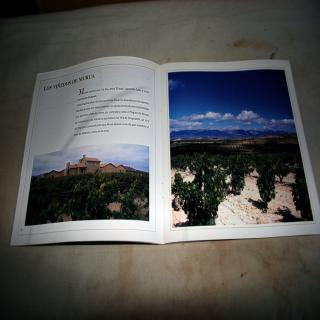book: (11, 58, 320, 245)
